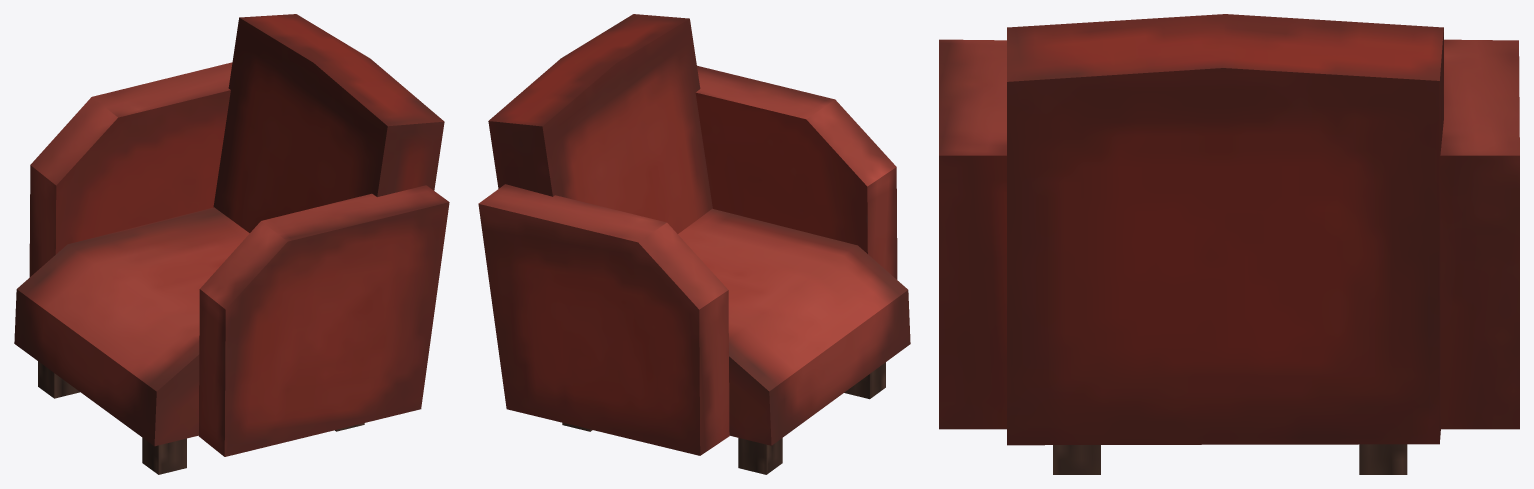
The model's file is StoelZitten.fbx.
3 views of the same model, side by side, from view 1: azimuth 30°, elevation 25°; view 2: azimuth 150°, elevation 25°; view 3: azimuth 270°, elevation 25° (orthographic). The views are drawn at different scales.
Parts seen in each view (by area): view 1: polySurface26; view 2: polySurface26; view 3: polySurface26.
Part boxes in pixels (bbox=[...]): polySurface26: bbox=[14, 14, 449, 474]; polySurface26: bbox=[478, 14, 910, 474]; polySurface26: bbox=[939, 14, 1519, 474].
Size of the model in its own units: 2.05 by 2.18 by 2.47.
